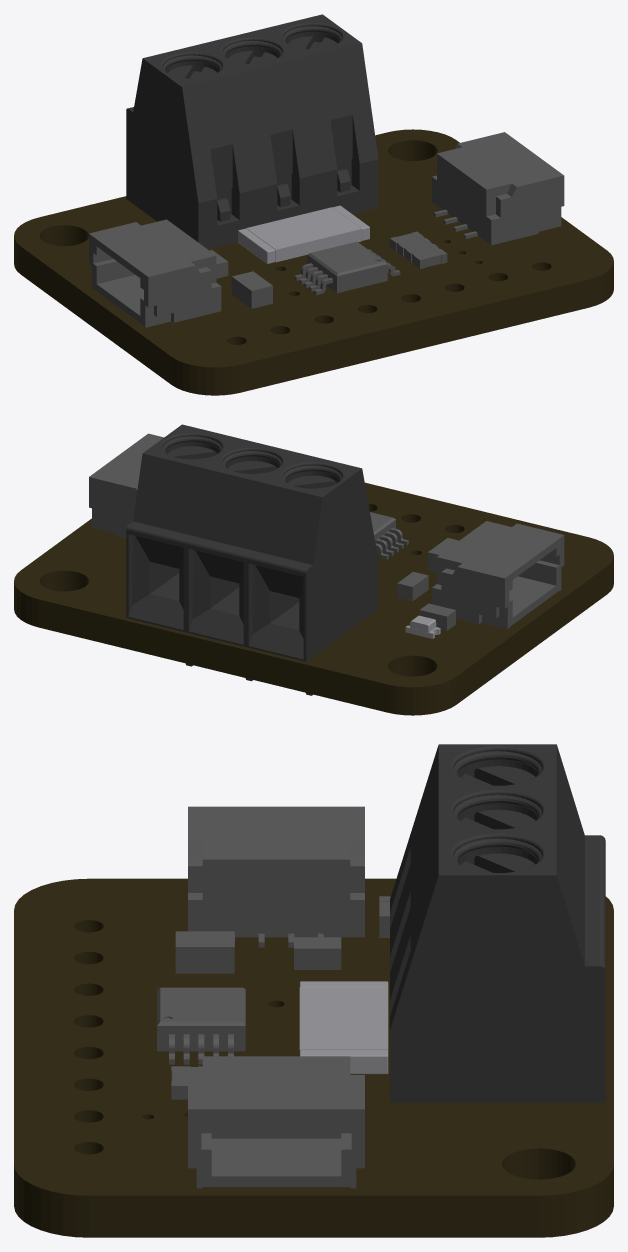
File: adafruit-ina228.glb
The picture shows the model from 3 angles, top to bottom: view 1: azimuth 30°, elevation 25°; view 2: azimuth 150°, elevation 25°; view 3: azimuth 270°, elevation 25°; orthographic projection. The views are drawn at different scales.
Visible parts, largest first — view 1: adafruit-ina228; view 2: adafruit-ina228; view 3: adafruit-ina228.
Part boxes in pixels (bbox=[...]): adafruit-ina228: bbox=[14, 14, 613, 395]; adafruit-ina228: bbox=[14, 424, 613, 715]; adafruit-ina228: bbox=[14, 744, 613, 1237].
Bounding box in the file's own units: 25.4 × 12.1 × 20.32.
